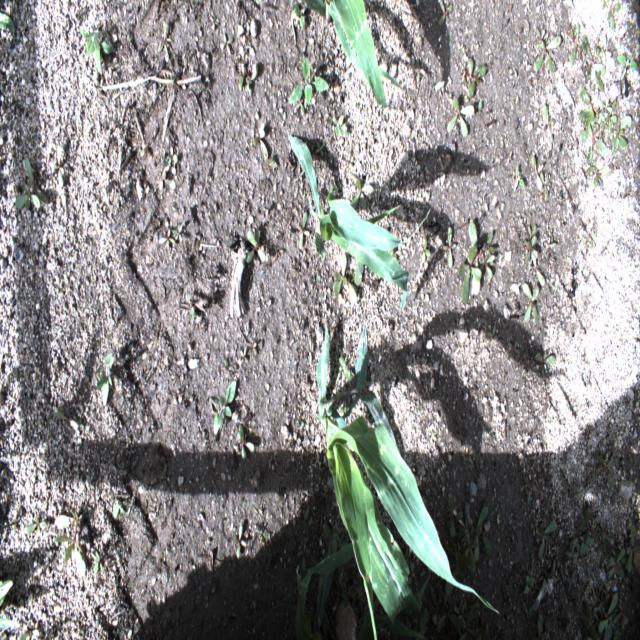crop: (294, 323, 463, 640), (286, 134, 431, 314), (300, 0, 404, 105)
weed: (53, 508, 87, 578), (290, 53, 330, 108), (437, 536, 470, 594), (577, 109, 609, 162), (14, 160, 46, 210), (78, 29, 113, 74), (457, 244, 482, 306), (213, 377, 237, 435), (593, 591, 622, 639), (580, 498, 608, 546), (471, 220, 496, 269), (471, 504, 492, 562), (252, 125, 278, 171), (446, 95, 474, 137), (580, 35, 606, 76), (602, 117, 633, 151), (463, 57, 487, 98), (595, 450, 618, 489), (97, 351, 113, 407), (534, 38, 562, 70), (349, 177, 375, 210), (568, 22, 588, 64), (537, 522, 557, 561), (445, 496, 462, 540), (322, 526, 348, 554), (604, 547, 626, 580), (460, 600, 480, 635), (522, 283, 538, 326), (247, 229, 266, 265), (341, 266, 358, 305), (238, 425, 256, 461), (332, 253, 346, 298), (441, 225, 456, 267), (626, 522, 638, 573), (600, 1, 621, 30), (466, 527, 478, 575), (53, 144, 65, 190), (582, 92, 601, 121), (594, 70, 610, 104), (476, 253, 496, 280), (530, 250, 545, 286), (158, 23, 171, 62), (617, 53, 639, 76), (604, 99, 618, 134), (234, 520, 246, 560), (588, 168, 612, 188), (531, 154, 543, 192), (411, 55, 426, 85), (524, 474, 538, 506), (297, 213, 309, 250), (26, 514, 48, 534), (353, 252, 365, 288), (385, 240, 403, 264), (543, 103, 553, 145), (598, 36, 612, 66), (54, 412, 80, 428), (418, 236, 431, 267), (0, 580, 14, 608), (339, 356, 353, 384), (333, 114, 350, 137), (158, 169, 176, 190), (526, 235, 540, 262), (572, 520, 587, 545), (167, 145, 179, 176), (218, 33, 234, 56), (439, 1, 453, 27), (292, 5, 307, 29), (0, 10, 16, 32), (298, 539, 309, 571), (238, 65, 252, 89), (185, 292, 195, 322), (93, 548, 103, 577), (304, 492, 314, 521), (534, 353, 556, 366), (160, 230, 175, 249), (506, 341, 520, 359), (515, 165, 525, 190), (16, 628, 41, 638), (455, 601, 465, 626), (566, 546, 578, 566), (112, 490, 120, 519), (528, 224, 538, 247), (545, 235, 557, 254), (306, 336, 314, 364), (566, 569, 576, 591), (540, 168, 547, 198), (172, 225, 185, 241), (488, 323, 497, 346), (525, 574, 534, 596), (208, 15, 220, 31), (588, 230, 597, 249), (315, 141, 325, 156), (12, 516, 20, 534), (330, 178, 339, 194), (240, 345, 248, 363)
